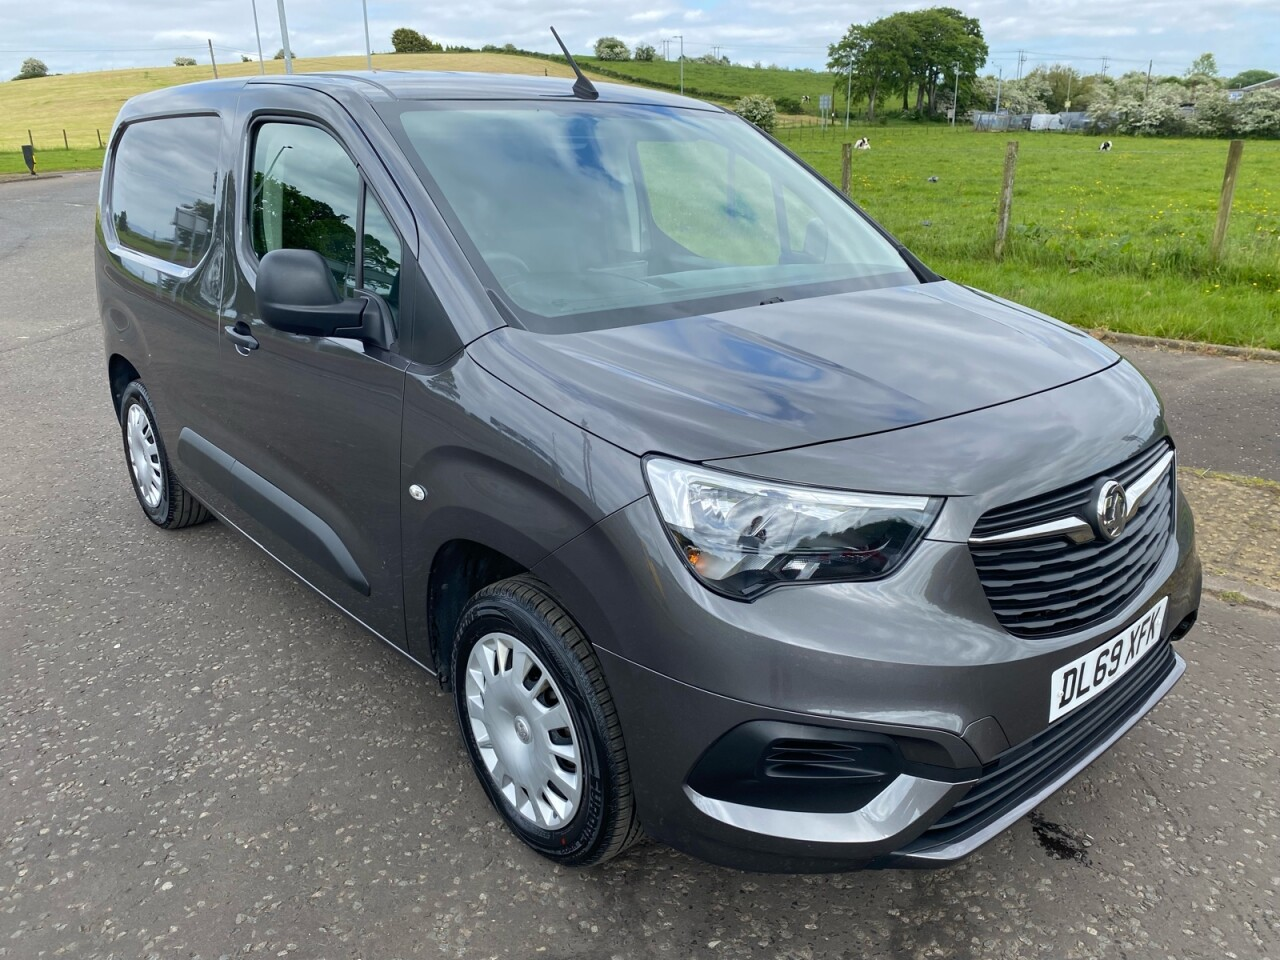car: (82, 56, 1215, 884)
